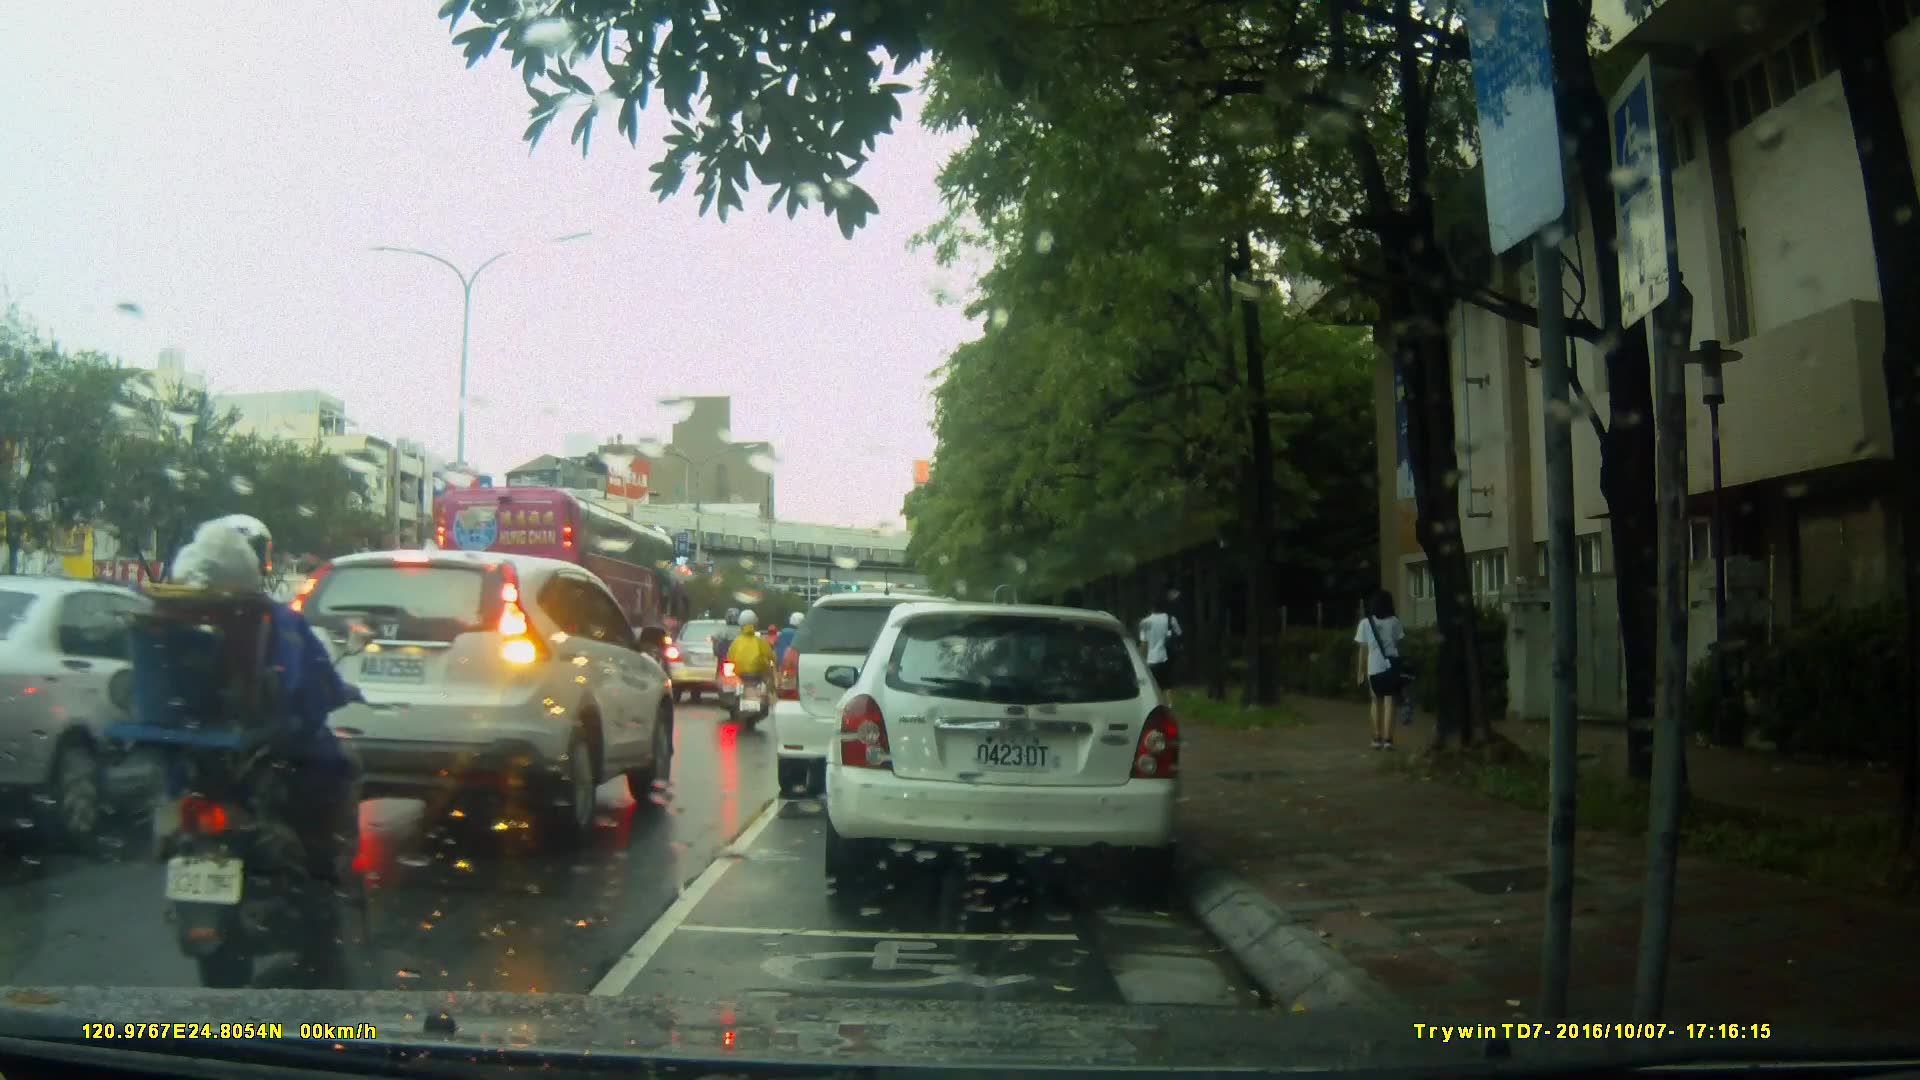pedestrian: (1341, 582, 1421, 769), (1137, 593, 1184, 717)
rider: (123, 514, 377, 991), (727, 608, 775, 734), (711, 602, 761, 716), (775, 605, 813, 708)
vehicle: (276, 547, 680, 840), (835, 594, 1194, 898), (430, 486, 699, 670), (776, 590, 1026, 784), (663, 617, 767, 704)
